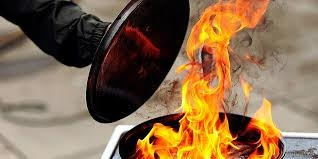fire: (136, 0, 288, 159)
